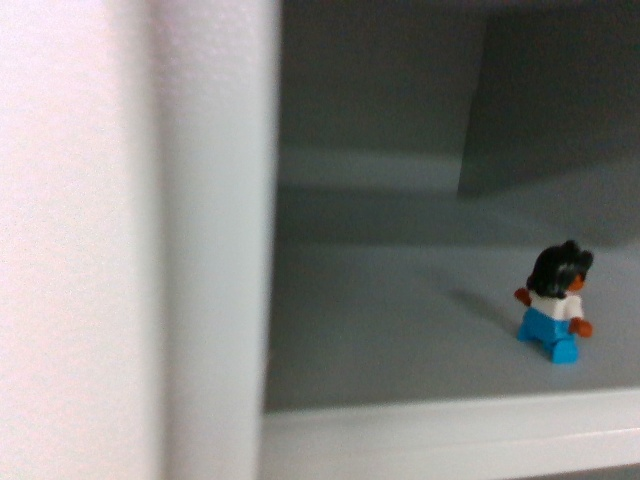people: (504, 240, 602, 371)
